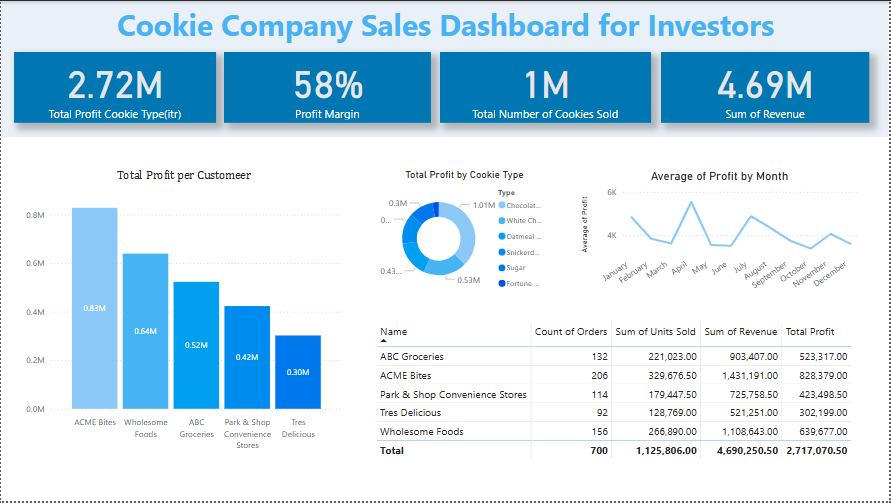

Layout of this report page (visuals, bound fields, positions):
{"tool":"powerbi","page":{"name":"Page 3","canvas":[1280,720],"ordinal":2},"visuals":[{"type":"columnChart","title":"Total Profit per Customeer","fields":{"Y":["Orders.Total Profit"],"Category":["Customers.Name"],"Series":["Customers.Name"]},"box":[15.8,231.8,495.4,440.6],"z":0},{"type":"card","fields":{"Values":["Cookie Types.Total Profit Cookie Type(itr)"]},"box":[15.8,86.4,291.6,102.2],"z":1000,"group":"g1"},{"type":"card","fields":{"Values":["Orders.Profit Margin"]},"box":[321.1,86.4,297.7,102.2],"z":2000,"group":"g1"},{"type":"card","fields":{"Values":["Orders.Total Number of Cookies Sold"]},"box":[632.5,86.4,303.9,102.2],"z":3000,"group":"g1"},{"type":"card","fields":{"Values":["Orders.Revenue"]},"box":[950.1,86.4,299.8,102.2],"z":4000,"group":"g1"},{"type":"donutChart","fields":{"Category":["Cookie Types.Cookie Type"],"Y":["Orders.Total Profit"]},"box":[529.5,231.3,274.9,194.9],"z":5000},{"type":"tableEx","fields":{"Values":["Customers.Name","Orders.Count of Orders","Orders.Units Sold","Orders.Revenue","Orders.Total Profit"]},"box":[529.9,452.2,720,220.3],"z":6000},{"type":"lineChart","fields":{"Category":["Orders.Date.Variation.Date Hierarchy.Month"],"Y":["Orders.Profit"]},"box":[818.9,231.3,430.5,194.9],"z":7000},{"type":"group","id":"g1","title":"Group 1","box":[15.8,86.4,1234.1,102.2],"z":7001}]}

Visuals, with their boxes in screenshot pixels (x1, y1, x2, y2), scaled from the page's 1280x720 canvas onto the 891x504 screenshot:
"Total Profit per Customeer" columnChart: pyautogui.locateOnScreen(11, 162, 356, 471)
card - Cookie Types.Total Profit Cookie Type(itr): pyautogui.locateOnScreen(11, 60, 214, 132)
card - Orders.Profit Margin: pyautogui.locateOnScreen(224, 60, 431, 132)
card - Orders.Total Number of Cookies Sold: pyautogui.locateOnScreen(440, 60, 652, 132)
card - Orders.Revenue: pyautogui.locateOnScreen(661, 60, 870, 132)
donutChart - Cookie Types.Cookie Type x Orders.Total Profit: pyautogui.locateOnScreen(369, 162, 560, 298)
tableEx - Customers.Name x Orders.Count of Orders: pyautogui.locateOnScreen(369, 317, 870, 471)
lineChart - Orders.Date.Variation.Date Hierarchy.Month x Orders.Profit: pyautogui.locateOnScreen(570, 162, 870, 298)
"Group 1" group: pyautogui.locateOnScreen(11, 60, 870, 132)
